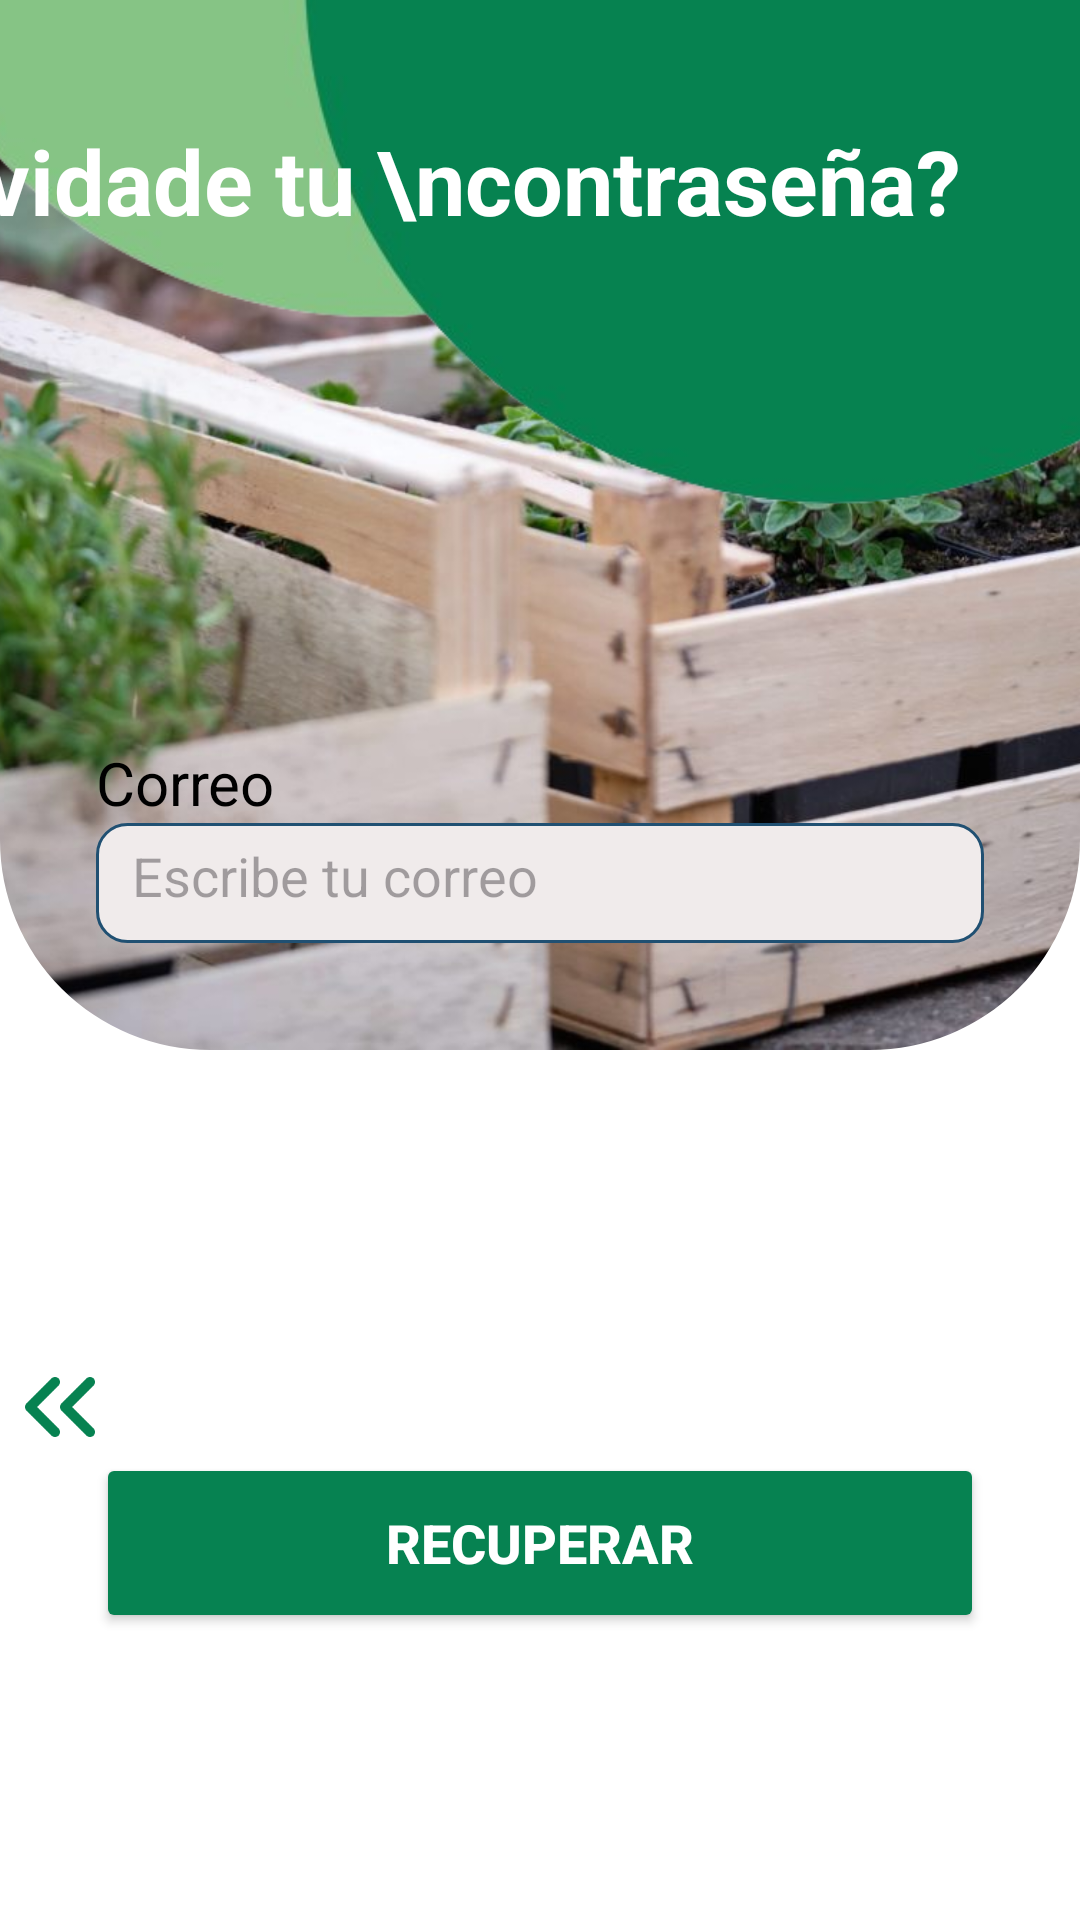

Named icons in this screenshot (1080 × 1920) and their bounding boxes, [left=x1, top=y1, right=x2, bottom=y2]:
chevrons left: [left=25, top=1377, right=95, bottom=1437]
